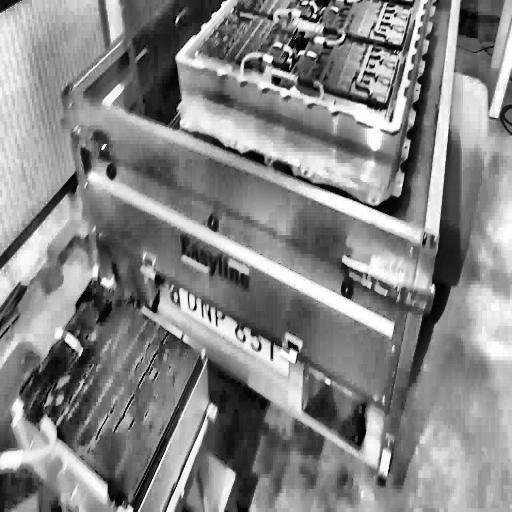battery_module: (13, 273, 208, 512)
